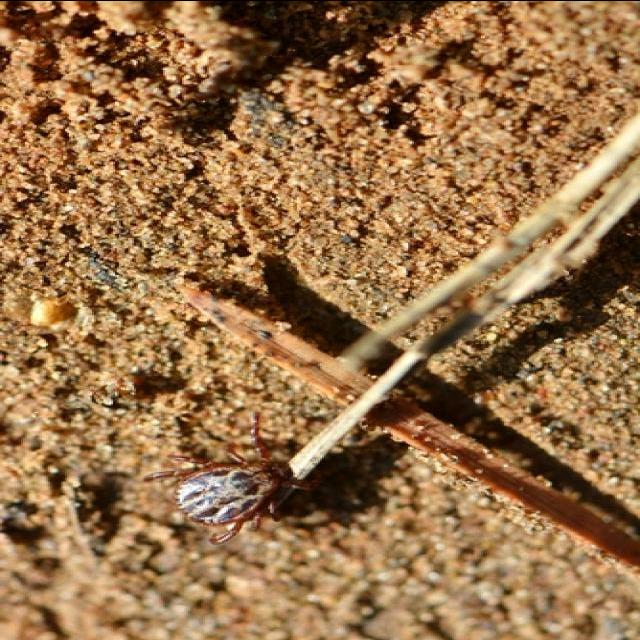Dermacentor Reticulatus-M: (146, 412, 326, 544)
